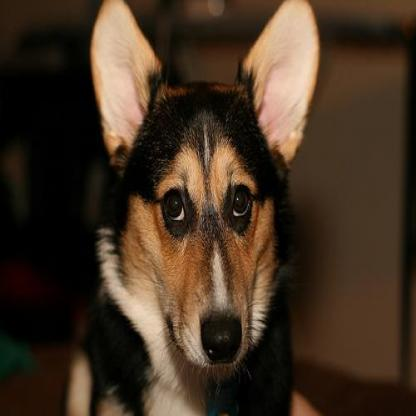Pembroke: (63, 0, 323, 414)
